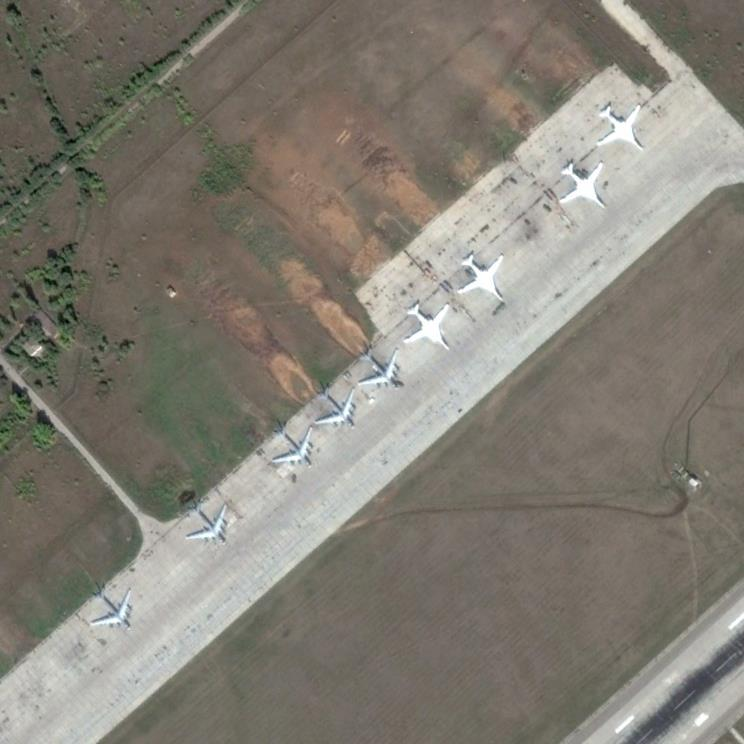A17: (89, 586, 134, 631), (314, 387, 359, 431), (357, 347, 401, 391), (272, 424, 314, 469), (185, 502, 228, 545)
A6: (402, 301, 453, 352), (557, 159, 607, 211), (455, 253, 505, 303), (595, 102, 644, 152)
